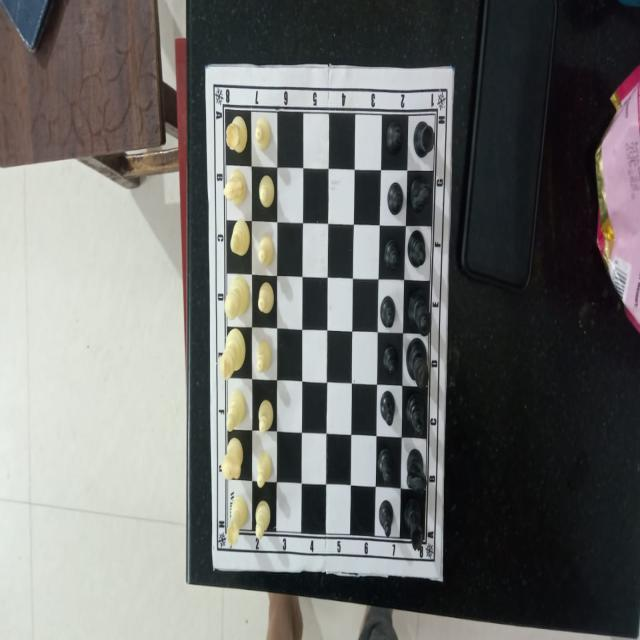corners: (199, 54, 213, 85), (205, 554, 220, 582), (445, 58, 458, 82), (437, 560, 447, 590)
